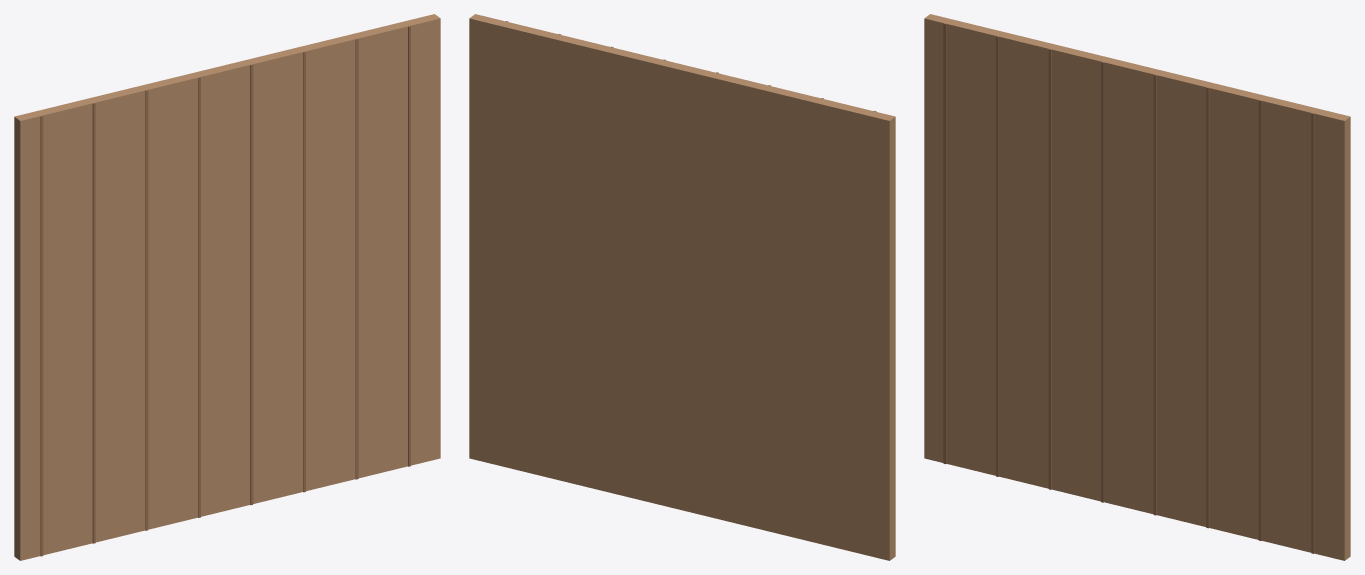
File: ARCH_FLOOR_WOOD_TILE_001.glb
3 renders of one model, left to right at view 1: azimuth 30°, elevation 25°; view 2: azimuth 150°, elevation 25°; view 3: azimuth 330°, elevation 25°, orthographic.
Visible parts, largest first — view 1: wood_floor_000, plank_line_001, plank_line_002, plank_line_003, plank_line_005, plank_line_007, plank_line_006, plank_line_004, plank_line_008; view 2: wood_floor_000; view 3: wood_floor_000, plank_line_001, plank_line_005, plank_line_003, plank_line_006, plank_line_008, plank_line_007, plank_line_002, plank_line_004.
Part boxes in pixels (left/top/right/bottom): wood_floor_000: left=14, top=14, right=440, bottom=560; plank_line_001: left=40, top=115, right=43, bottom=556; plank_line_002: left=92, top=103, right=95, bottom=543; plank_line_003: left=145, top=90, right=148, bottom=530; plank_line_005: left=250, top=64, right=253, bottom=505; plank_line_007: left=355, top=39, right=358, bottom=479; plank_line_006: left=303, top=51, right=305, bottom=492; plank_line_004: left=198, top=77, right=200, bottom=517; plank_line_008: left=408, top=26, right=410, bottom=466; wood_floor_000: left=469, top=14, right=895, bottom=560; wood_floor_000: left=924, top=14, right=1350, bottom=560; plank_line_001: left=943, top=23, right=946, bottom=464; plank_line_005: left=1153, top=74, right=1156, bottom=515; plank_line_003: left=1048, top=49, right=1051, bottom=489; plank_line_006: left=1206, top=87, right=1209, bottom=528; plank_line_008: left=1311, top=113, right=1314, bottom=553; plank_line_007: left=1258, top=100, right=1261, bottom=540; plank_line_002: left=996, top=36, right=998, bottom=476; plank_line_004: left=1101, top=62, right=1103, bottom=502.
Bounding box in the file's own units: 2 × 2 × 0.055.
